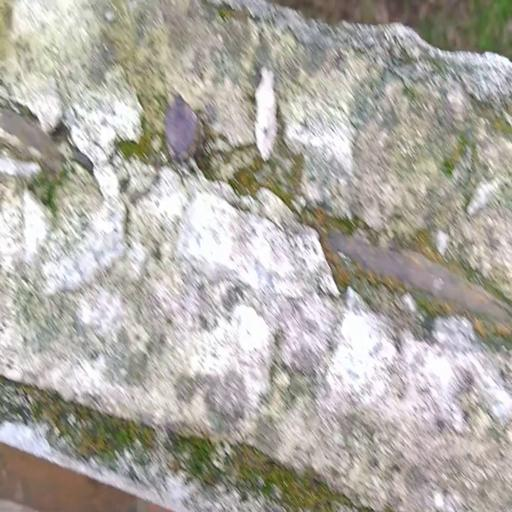spalling: (0, 55, 512, 349)
